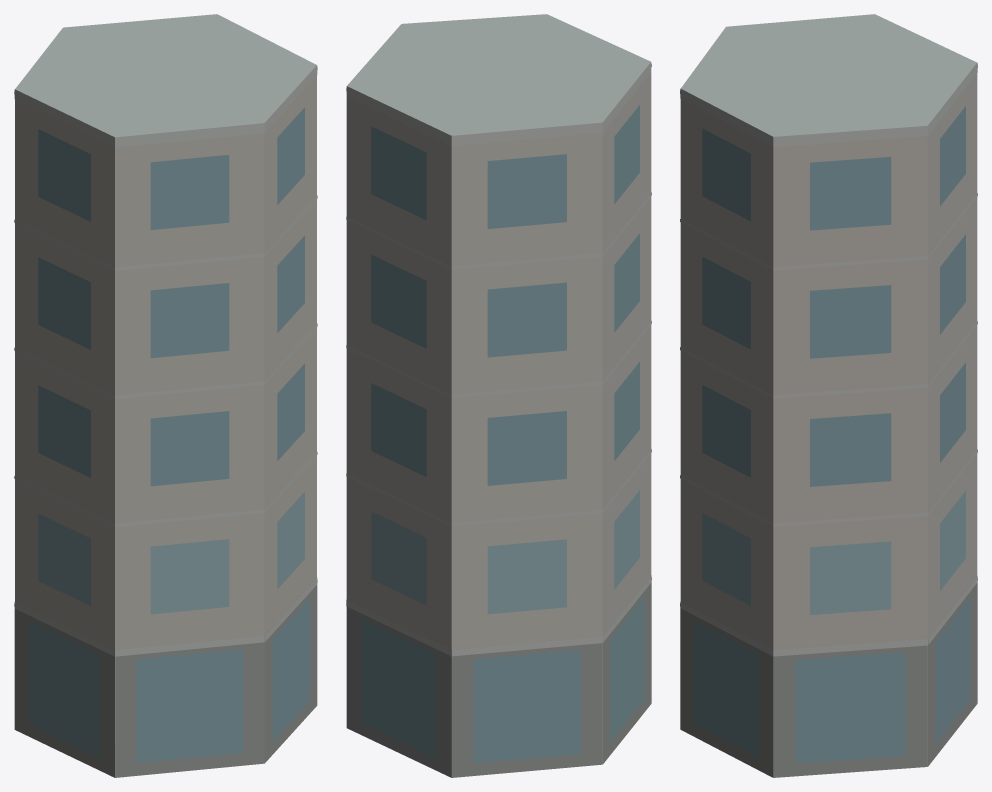
Rendered from survey-upis-32708618.glb.
The picture shows the model from 3 angles, left to right: view 1: azimuth 30°, elevation 25°; view 2: azimuth 150°, elevation 25°; view 3: azimuth 270°, elevation 25°; orthographic projection.
Parts seen in each view (by area): view 1: survey-upis-32708618.tmp; view 2: survey-upis-32708618.tmp; view 3: survey-upis-32708618.tmp.
Part boxes in pixels (x1,y1,x2,y2): survey-upis-32708618.tmp: (14, 14, 317, 777); survey-upis-32708618.tmp: (346, 14, 651, 777); survey-upis-32708618.tmp: (680, 14, 977, 777).
Bounding box in the file's own units: 6.29 × 15.25 × 6.42.
